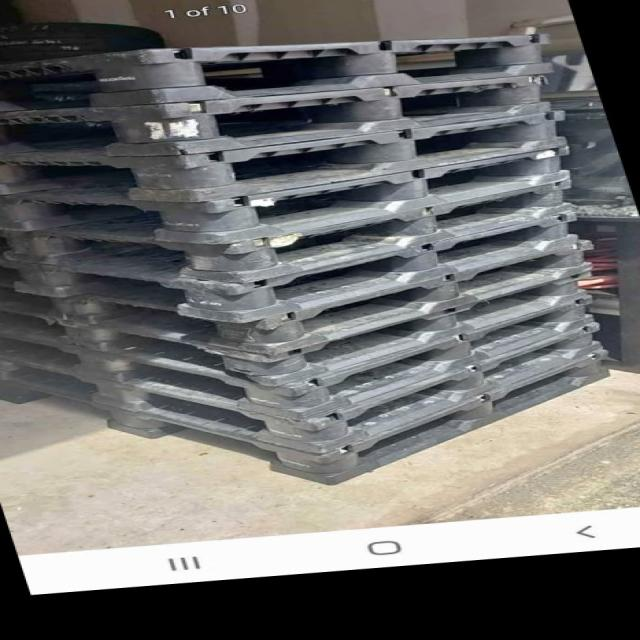non-igps: (0, 303, 625, 462), (0, 343, 639, 490), (0, 282, 613, 432), (0, 259, 614, 392), (0, 234, 623, 365), (0, 204, 594, 328), (0, 173, 597, 291), (0, 138, 591, 251), (0, 103, 581, 211), (0, 23, 571, 118), (0, 68, 561, 163)
